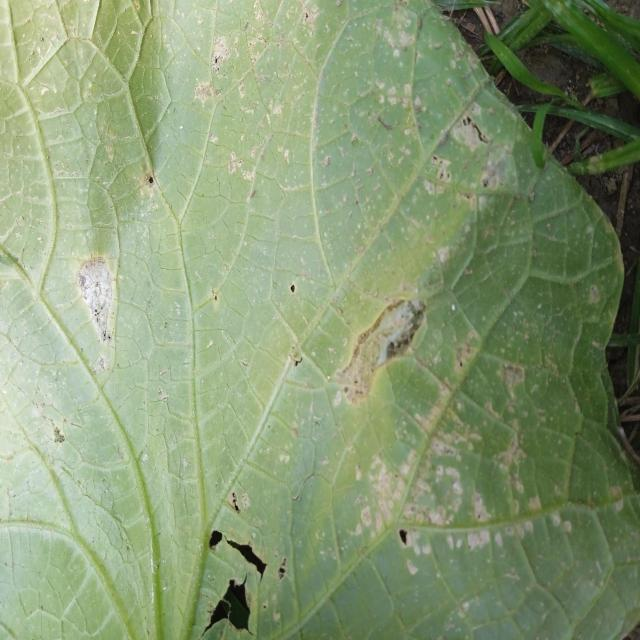cucumber_anthracnose: (25, 20, 518, 635)
